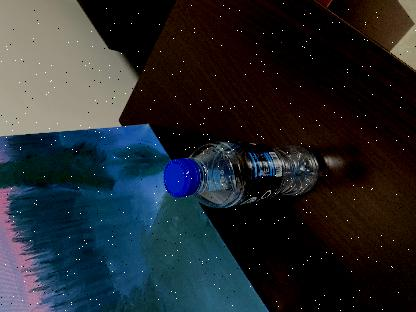Plastic Bottle: (163, 141, 320, 208)
